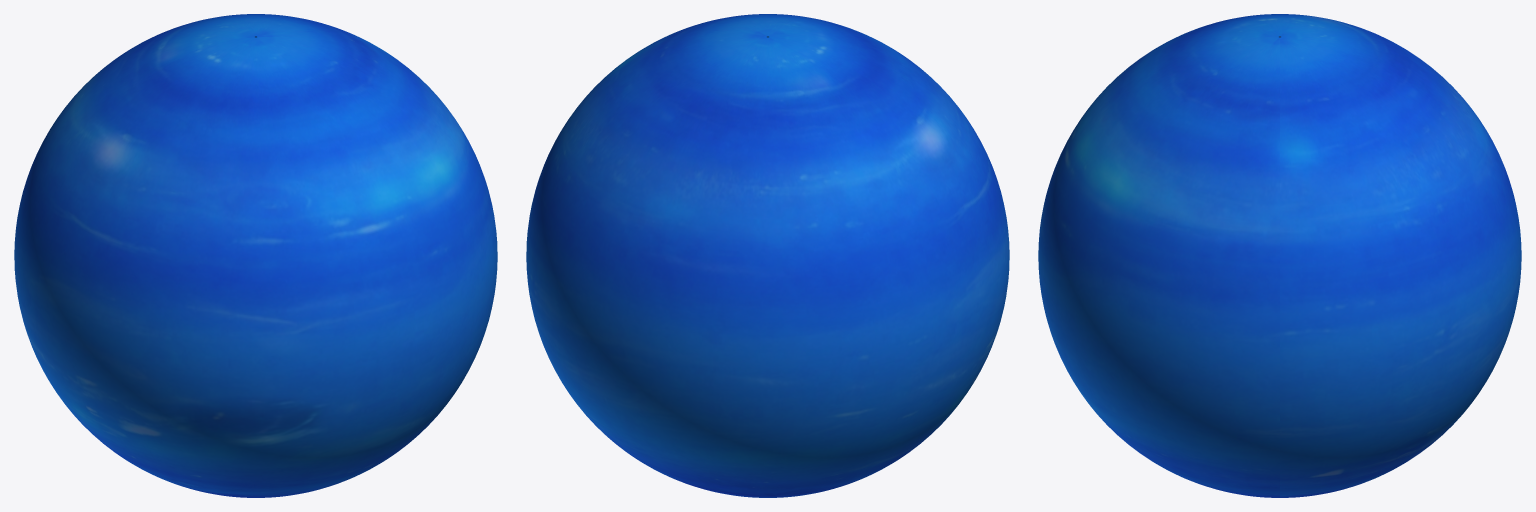
Rendered from neptune.fbx.
3 views of the same model, side by side, from view 1: azimuth 30°, elevation 25°; view 2: azimuth 150°, elevation 25°; view 3: azimuth 270°, elevation 25° (orthographic).
Visible parts, largest first — view 1: neptune; view 2: neptune; view 3: neptune.
Boxes of the visible parts, box(x1,y1,x2,y2) form: neptune: box(14, 14, 497, 497); neptune: box(526, 14, 1009, 497); neptune: box(1038, 14, 1521, 497).
Bounding box in the file's own units: 0.6366 × 0.6366 × 0.6366.
Materials: 1 (1 with a texture image).
